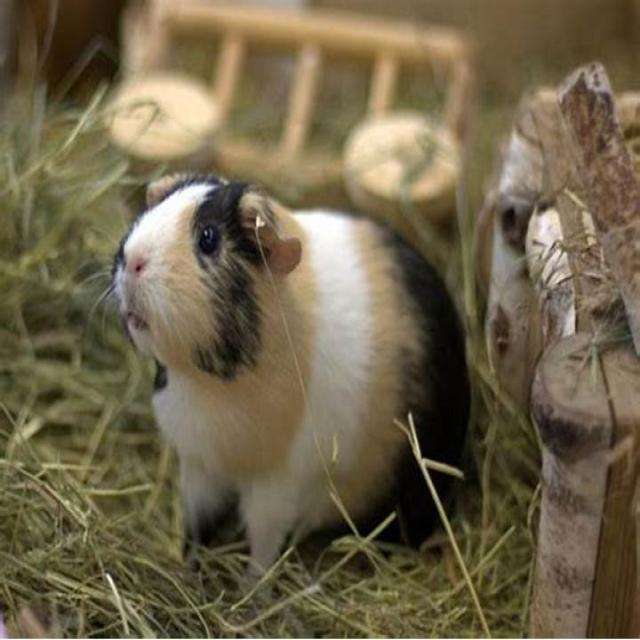guinea pig: (99, 154, 496, 587)
